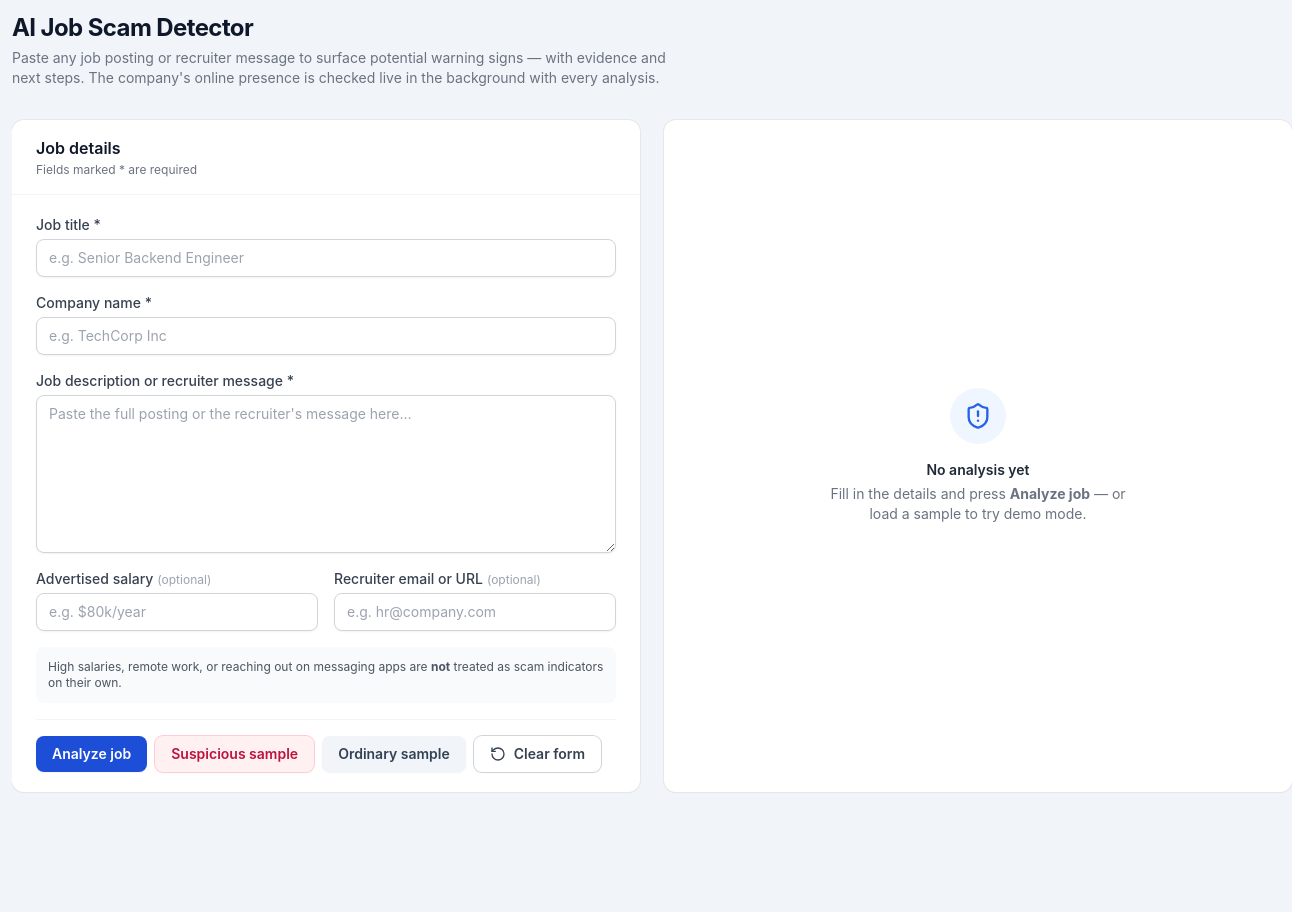
Test case: JobAnalyzer › submits and displays a risk result with evidence and timestamp
The width and height of the screenshot is (1292, 912).
Click the button "Suspicious sample".
click(235, 754)  # box x1=155 y1=736 x2=314 y2=772
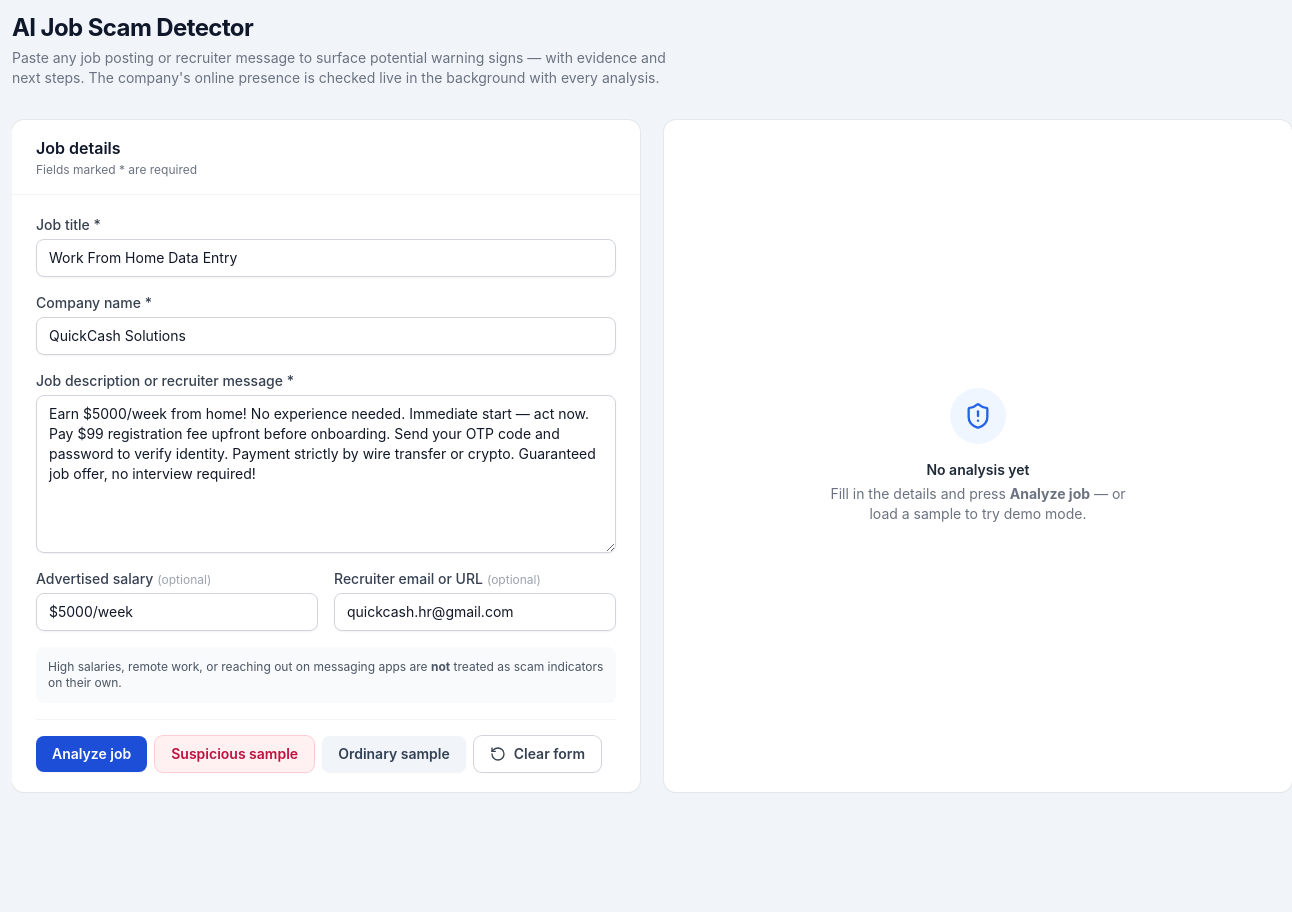
Click the button "Analyze job".
click(92, 754)  # box x1=36 y1=736 x2=147 y2=772
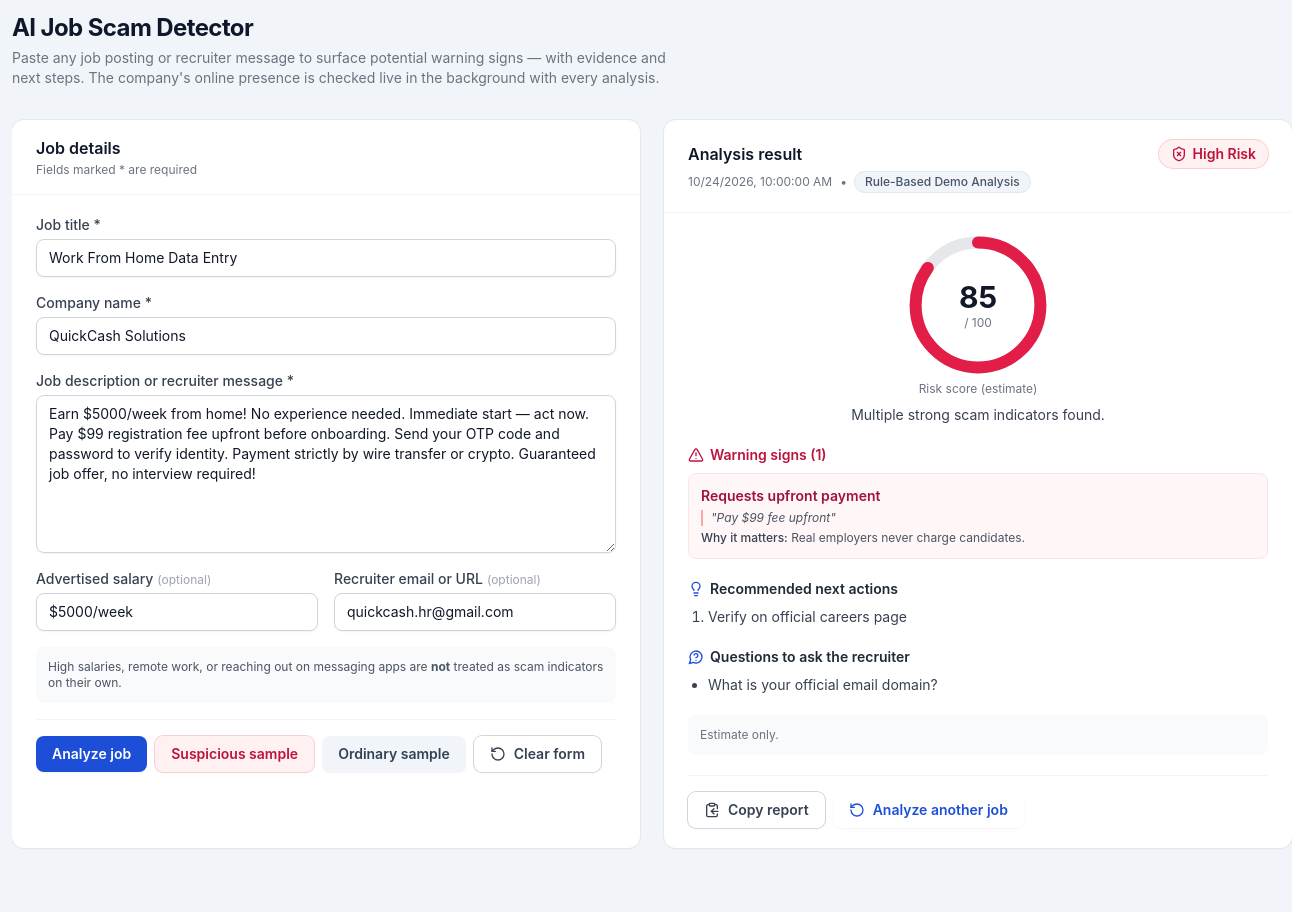
Now the text "High Risk" is shown, box x1=1159 y1=140 x2=1268 y2=168
Now the text "85" is shown, box x1=959 y1=279 x2=997 y2=315
Now the text "Requests upfront payment" is shown, box x1=701 y1=487 x2=880 y2=504
